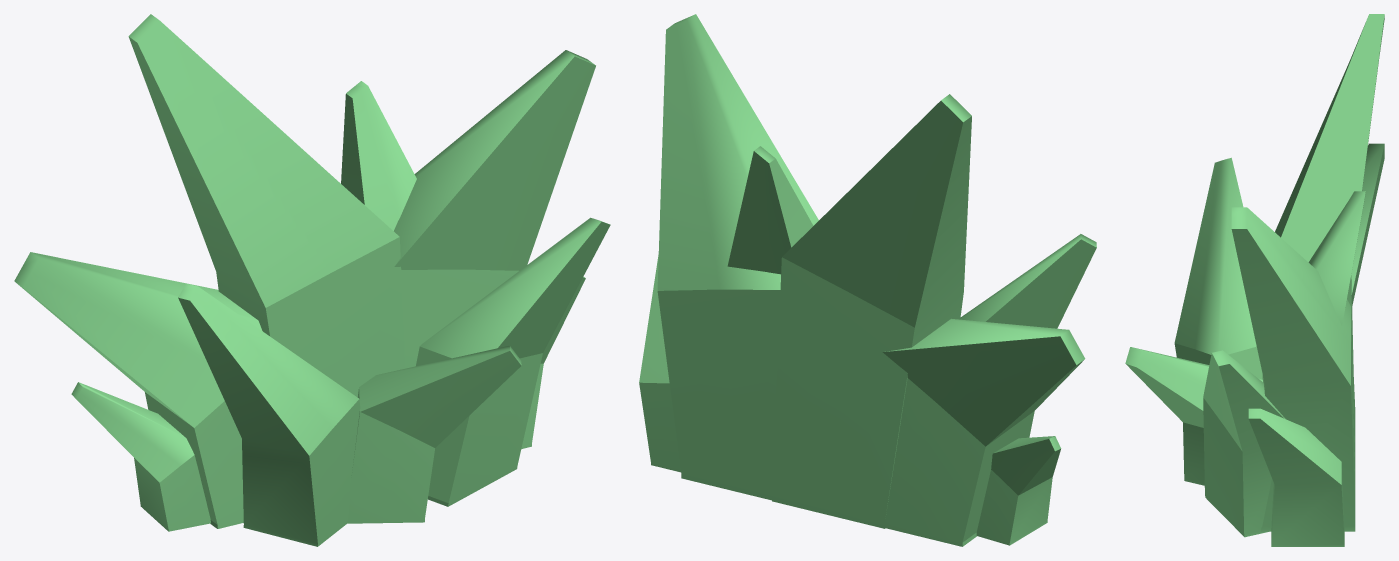
3 renders of one model, left to right at view 1: azimuth 30°, elevation 25°; view 2: azimuth 150°, elevation 25°; view 3: azimuth 270°, elevation 25°, orthographic. The views are drawn at different scales.
Parts seen in each view (by area): view 1: Cube, Subdiv, Subdiv 7, Subdiv 4, Subdiv 6, Subdiv 8, Subdiv 5, Subdiv 2, Subdiv 3; view 2: Cube, Subdiv, Subdiv 4, Subdiv 5, Subdiv 2, Subdiv 7, Subdiv 3; view 3: Subdiv, Cube, Subdiv 7, Subdiv 6, Subdiv 3, Subdiv 8, Subdiv 2, Subdiv 4.
Part boxes in pixels (x1=…): Cube: x1=128, y1=14, x2=405, y2=397; Subdiv: x1=394, y1=50, x2=595, y2=368; Subdiv 7: x1=178, y1=283, x2=360, y2=546; Subdiv 4: x1=14, y1=252, x2=262, y2=528; Subdiv 6: x1=416, y1=217, x2=610, y2=506; Subdiv 8: x1=347, y1=345, x2=521, y2=523; Subdiv 5: x1=71, y1=382, x2=210, y2=531; Subdiv 2: x1=341, y1=81, x2=416, y2=230; Subdiv 3: x1=521, y1=276, x2=585, y2=448; Cube: x1=772, y1=94, x2=971, y2=528; Subdiv: x1=657, y1=14, x2=821, y2=510; Subdiv 4: x1=880, y1=318, x2=1085, y2=546; Subdiv 5: x1=976, y1=436, x2=1061, y2=545; Subdiv 2: x1=727, y1=146, x2=813, y2=274; Subdiv 7: x1=960, y1=234, x2=1096, y2=328; Subdiv 3: x1=639, y1=255, x2=681, y2=472; Subdiv: x1=1231, y1=207, x2=1355, y2=531; Cube: x1=1262, y1=14, x2=1384, y2=485; Subdiv 7: x1=1174, y1=157, x2=1262, y2=379; Subdiv 6: x1=1203, y1=350, x2=1285, y2=537; Subdiv 3: x1=1248, y1=408, x2=1344, y2=546; Subdiv 8: x1=1125, y1=347, x2=1262, y2=485; Subdiv 2: x1=1308, y1=191, x2=1365, y2=325; Subdiv 4: x1=1351, y1=143, x2=1384, y2=436.
Size of the model in its own units: 1.48 by 1.32 by 0.7679.
